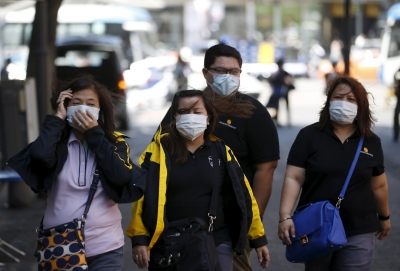mask: (173, 109, 213, 145), (60, 96, 102, 126), (210, 70, 244, 97), (326, 97, 359, 124)
